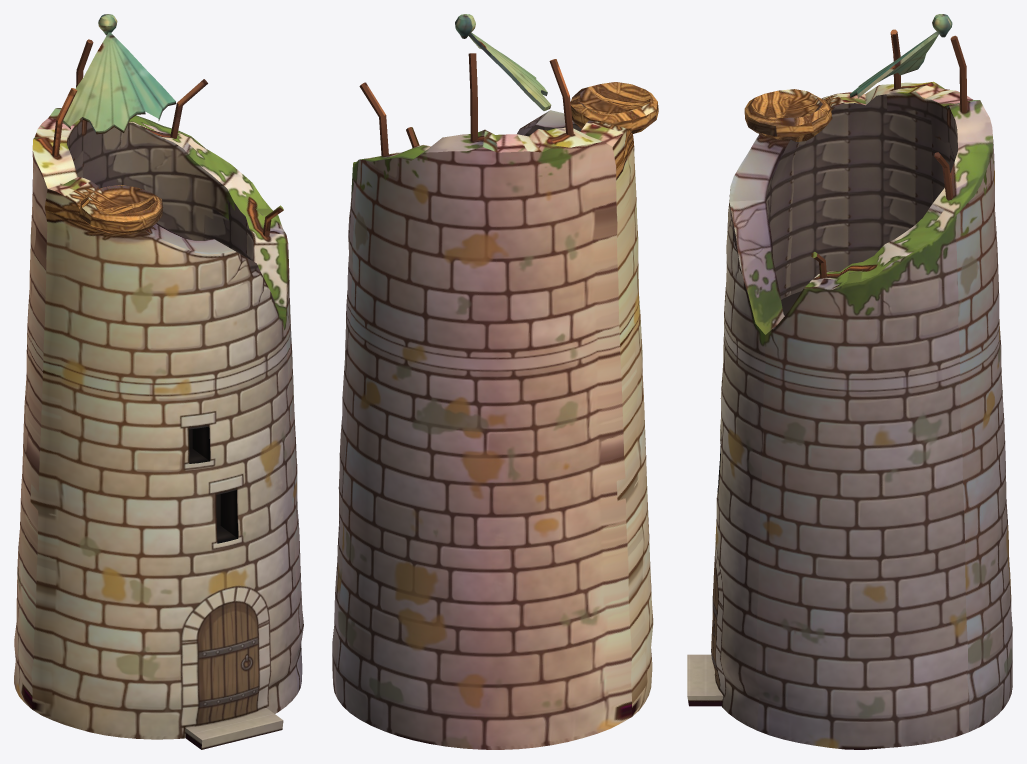
File: phare_ruine.glb
The picture shows the model from 3 angles, left to right: view 1: azimuth 30°, elevation 25°; view 2: azimuth 150°, elevation 25°; view 3: azimuth 270°, elevation 25°; orthographic projection. The views are drawn at different scales.
Parts seen in each view (by area): view 1: maison; view 2: maison; view 3: maison.
Part boxes in pixels (left/top/right/bottom): maison: left=14, top=14, right=303, bottom=749; maison: left=332, top=14, right=658, bottom=749; maison: left=687, top=14, right=1012, bottom=749.
Bounding box in the file's own units: 3.85 × 9.33 × 4.14.
Materials: 1 (1 with a texture image).
